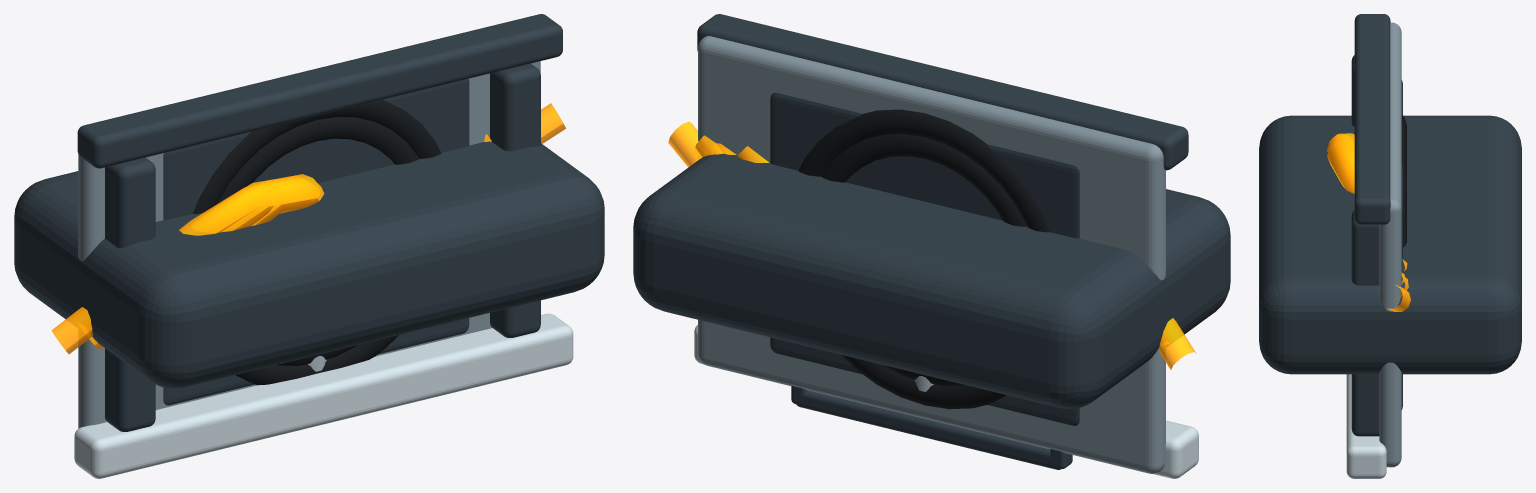
File: body_21.glb
3 renders of one model, left to right at view 1: azimuth 30°, elevation 25°; view 2: azimuth 150°, elevation 25°; view 3: azimuth 270°, elevation 25°, orthographic. The views are drawn at different scales.
Visible parts, largest first — view 1: asset_mesh__body_1052__reference_body, asset_mesh__body_1041__upper_flange, asset_mesh__body_1041__lower_flange, asset_mesh__body_1040__door_shell, asset_mesh__body_1041__stamped_sheet, asset_mesh__body_1041__left_reinforcement, asset_mesh__body_1061__service_element, asset_mesh__body_1041__right_reinforcement, asset_mesh__body_1058__service_element, asset_mesh__body_1051__fluid_path, asset_mesh__body_1055__fluid_path, asset_mesh__body_1049__fluid_path; view 2: asset_mesh__body_1052__reference_body, asset_mesh__body_1041__stamped_sheet, asset_mesh__body_1040__door_shell, asset_mesh__body_1041__lower_flange, asset_mesh__body_1061__service_element, asset_mesh__body_1058__service_element, asset_mesh__body_1040__window_frame_top, asset_mesh__body_1051__fluid_path, asset_mesh__body_1041__upper_flange; view 3: asset_mesh__body_1052__reference_body, asset_mesh__body_1041__lower_flange, asset_mesh__body_1041__stamped_sheet, asset_mesh__body_1041__right_reinforcement, asset_mesh__body_1041__upper_flange, asset_mesh__body_1055__fluid_path, asset_mesh__body_1061__service_element, asset_mesh__body_1040__door_shell, asset_mesh__body_1051__fluid_path.
Part boxes in pixels (<box>): asset_mesh__body_1052__reference_body: <box>14,141,604,388</box>; asset_mesh__body_1041__upper_flange: <box>74,313,573,478</box>; asset_mesh__body_1041__lower_flange: <box>77,14,562,168</box>; asset_mesh__body_1040__door_shell: <box>163,78,469,405</box>; asset_mesh__body_1041__stamped_sheet: <box>78,61,540,428</box>; asset_mesh__body_1041__left_reinforcement: <box>105,157,155,431</box>; asset_mesh__body_1061__service_element: <box>193,99,441,385</box>; asset_mesh__body_1041__right_reinforcement: <box>490,63,540,337</box>; asset_mesh__body_1058__service_element: <box>217,116,418,365</box>; asset_mesh__body_1051__fluid_path: <box>51,103,565,354</box>; asset_mesh__body_1055__fluid_path: <box>251,134,491,225</box>; asset_mesh__body_1049__fluid_path: <box>89,179,297,349</box>; asset_mesh__body_1052__reference_body: <box>633,153,1230,408</box>; asset_mesh__body_1041__stamped_sheet: <box>698,36,1165,473</box>; asset_mesh__body_1040__door_shell: <box>770,92,1079,425</box>; asset_mesh__body_1041__lower_flange: <box>697,14,1188,170</box>; asset_mesh__body_1061__service_element: <box>798,109,1049,409</box>; asset_mesh__body_1058__service_element: <box>821,134,1026,385</box>; asset_mesh__body_1040__window_frame_top: <box>796,390,1061,469</box>; asset_mesh__body_1051__fluid_path: <box>668,121,1196,369</box>; asset_mesh__body_1041__upper_flange: <box>694,325,1198,478</box>; asset_mesh__body_1052__reference_body: <box>1259,115,1521,374</box>; asset_mesh__body_1041__lower_flange: <box>1354,14,1390,224</box>; asset_mesh__body_1041__stamped_sheet: <box>1379,22,1401,467</box>; asset_mesh__body_1041__right_reinforcement: <box>1351,210,1379,436</box>; asset_mesh__body_1041__upper_flange: <box>1346,374,1386,478</box>; asset_mesh__body_1055__fluid_path: <box>1327,140,1407,270</box>; asset_mesh__body_1061__service_element: <box>1401,114,1406,247</box>; asset_mesh__body_1040__door_shell: <box>1401,80,1402,409</box>; asset_mesh__body_1051__fluid_path: <box>1331,133,1410,311</box>.
Size of the model in its own units: 1.64 by 1.06 by 0.882.
